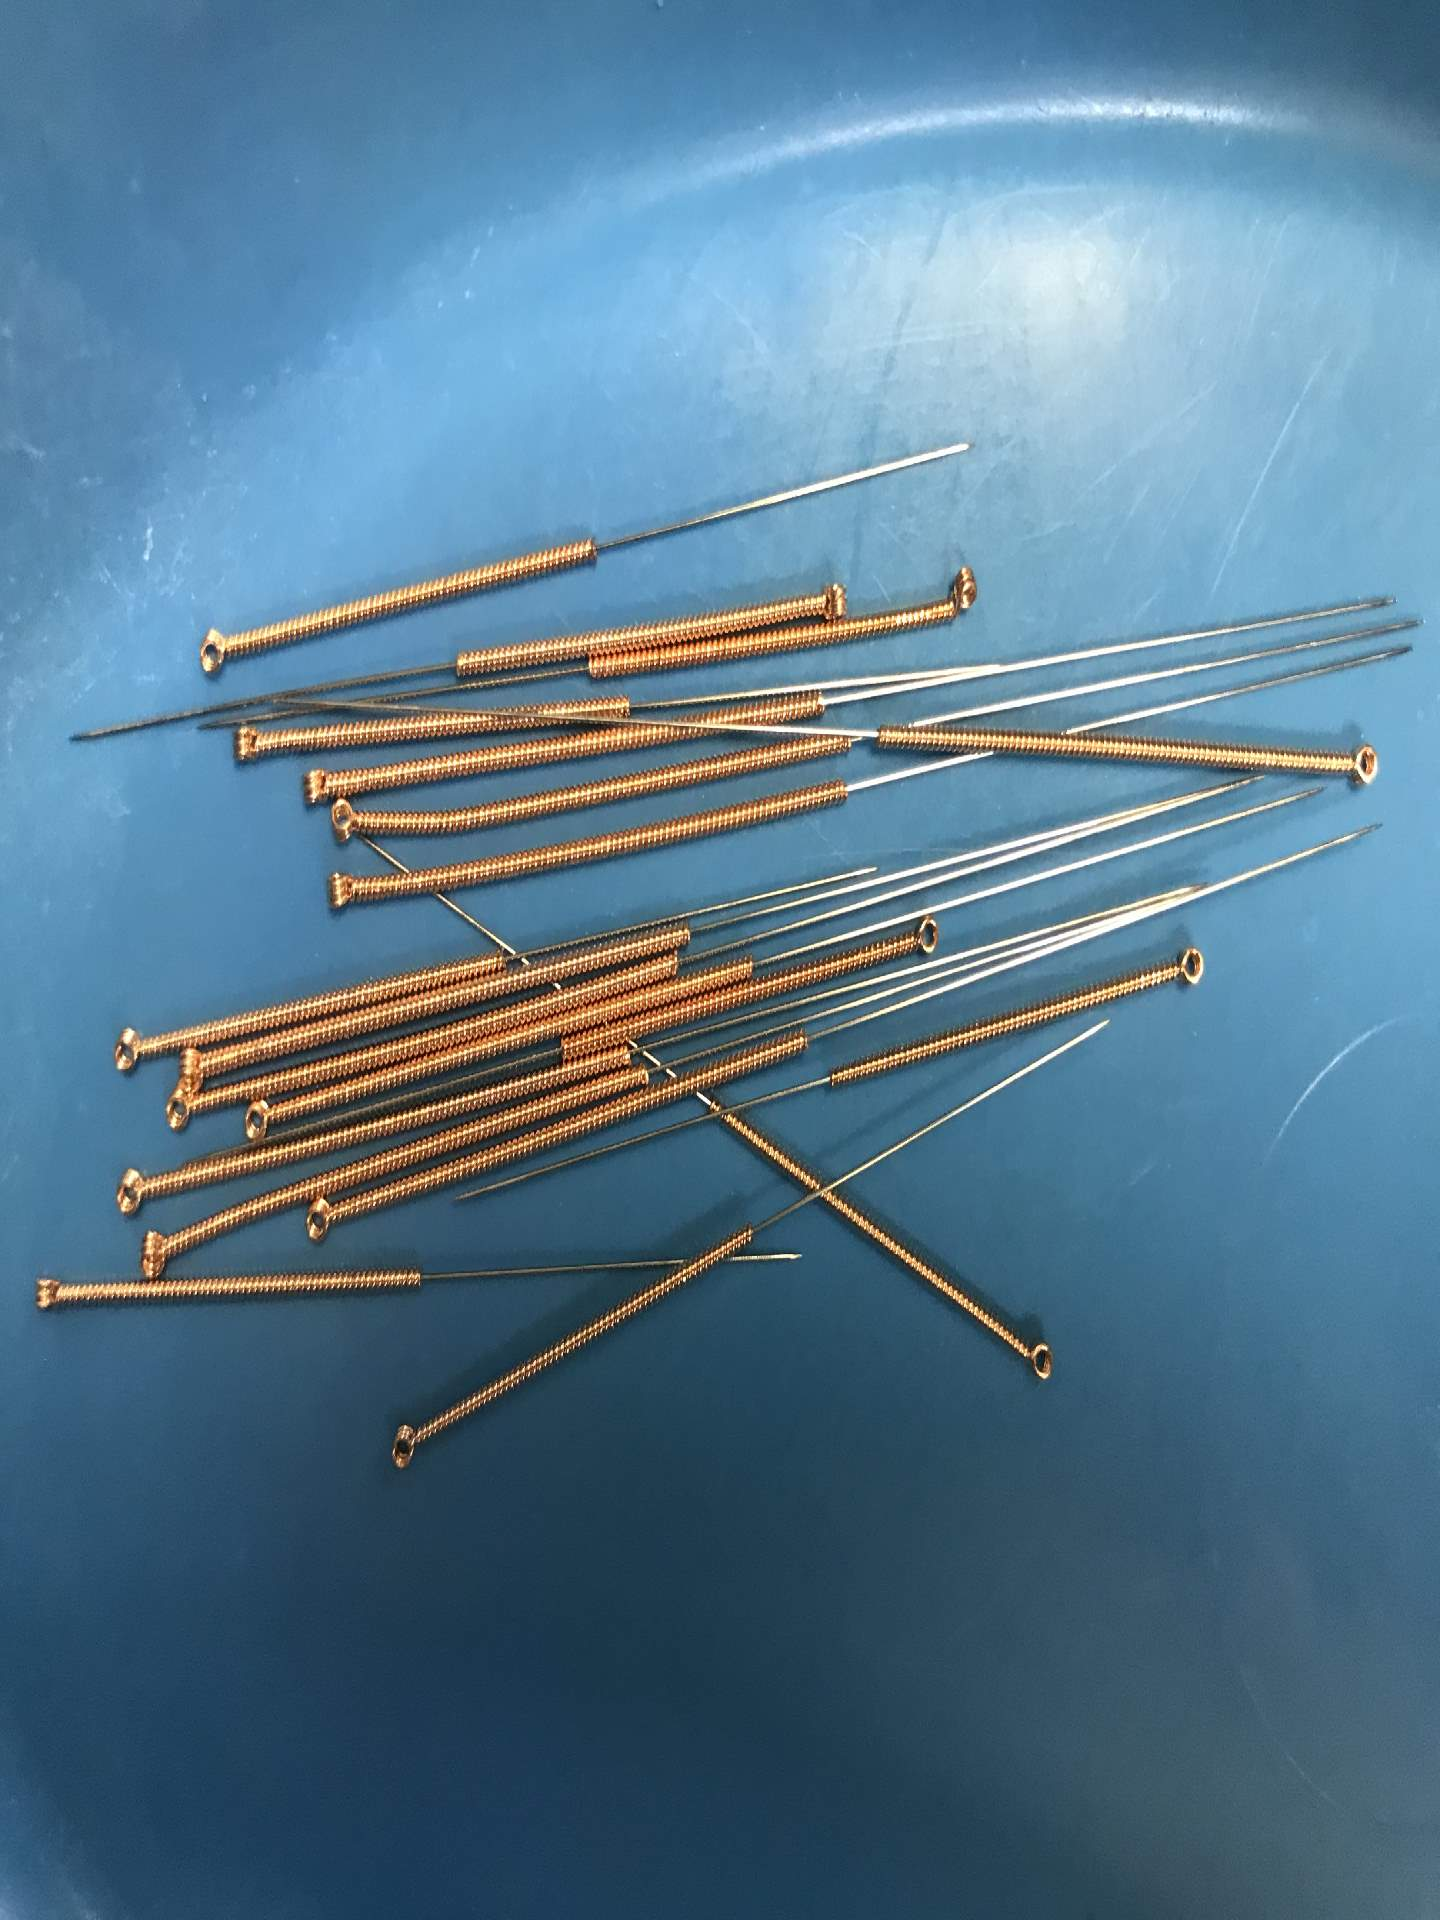needle: (126, 1219, 192, 1284), (106, 1158, 166, 1226), (1333, 730, 1389, 803), (1004, 1324, 1063, 1391), (932, 555, 985, 627), (312, 863, 372, 925), (23, 1264, 83, 1324), (378, 1415, 436, 1479), (296, 1193, 355, 1252), (188, 618, 242, 680), (104, 1017, 157, 1081), (313, 794, 371, 850), (219, 718, 274, 774), (897, 910, 948, 969), (1162, 937, 1212, 998), (292, 757, 352, 807), (151, 1090, 207, 1140), (802, 574, 853, 627), (171, 1042, 219, 1098), (233, 1095, 290, 1141)
